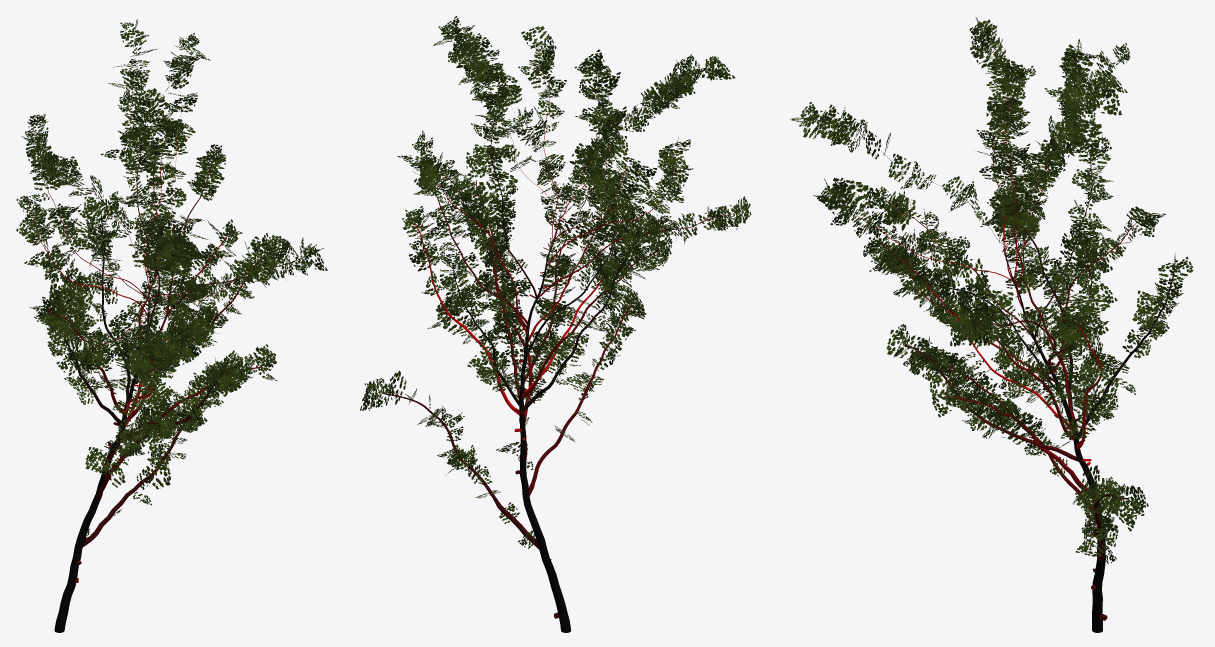
Rendered from Tree_27.fbx.
3 views of the same model, side by side, from view 1: azimuth 30°, elevation 25°; view 2: azimuth 150°, elevation 25°; view 3: azimuth 270°, elevation 25° (orthographic). The views are drawn at different scales.
Visible parts, largest first — view 1: Tree_32; view 2: Tree_32; view 3: Tree_32.
Boxes of the visible parts, x1,y1,x2,y2 form: Tree_32: [16, 19, 327, 632]; Tree_32: [360, 16, 751, 632]; Tree_32: [790, 17, 1193, 632].
Bounding box in the file's own units: 3428 × 6594 × 3949.
